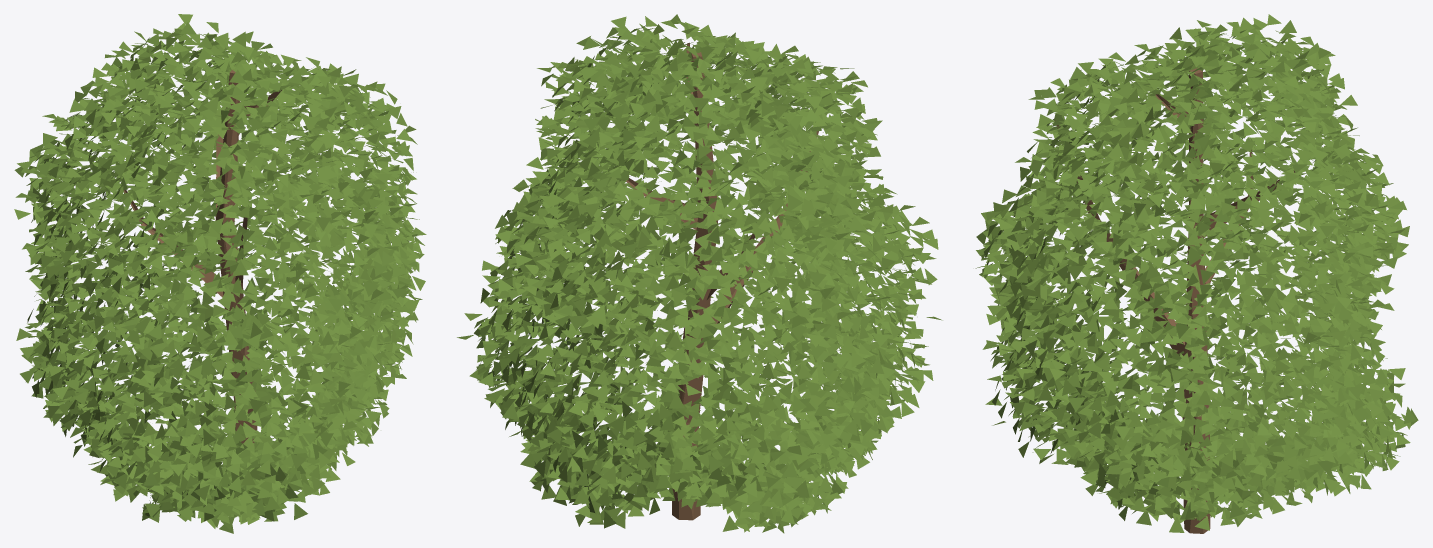
Rendered from tree-oak-1-0.glb.
3 renders of one model, left to right at view 1: azimuth 30°, elevation 25°; view 2: azimuth 150°, elevation 25°; view 3: azimuth 270°, elevation 25°, orthographic. The views are drawn at different scales.
Visible parts, largest first — view 1: tree/oak@1/0; view 2: tree/oak@1/0; view 3: tree/oak@1/0.
Part boxes in pixels (bbox=[...]): tree/oak@1/0: bbox=[14, 14, 426, 533]; tree/oak@1/0: bbox=[457, 14, 942, 533]; tree/oak@1/0: bbox=[975, 14, 1418, 533].
Bounding box in the file's own units: 4277 × 4993 × 4200.
